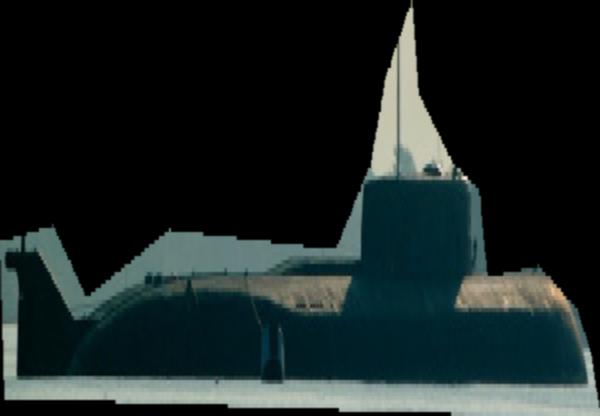Submarine: (0, 0, 600, 416)
